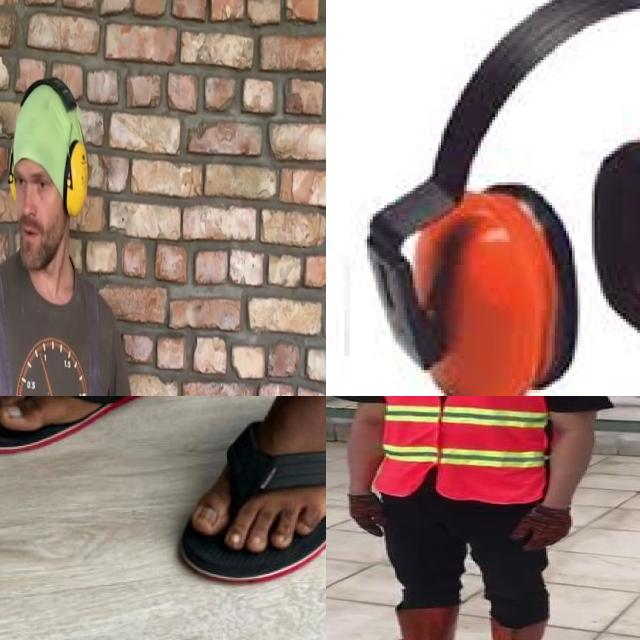Ear-protection: (381, 0, 640, 396), (5, 74, 91, 274)
No_Glasses: (12, 160, 55, 204)
Sandals: (179, 396, 326, 585), (0, 396, 229, 454)
boots: (366, 606, 459, 640), (478, 617, 544, 640)
person: (331, 396, 613, 640), (0, 58, 187, 396)
vest: (370, 396, 553, 504)
